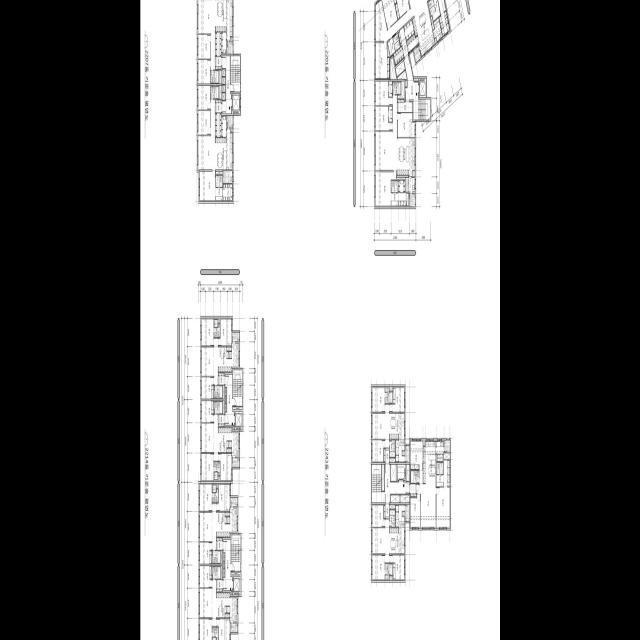background: (140, 0, 500, 640)
space_balconi: (413, 46, 421, 63), (409, 194, 415, 207)
space_bedroom: (375, 172, 396, 207), (436, 487, 449, 527), (375, 43, 389, 79), (199, 172, 215, 202), (382, 0, 397, 29), (375, 106, 392, 131), (398, 113, 415, 137), (375, 81, 392, 105), (218, 318, 232, 346), (216, 483, 230, 511), (218, 454, 232, 481), (410, 441, 423, 470), (389, 555, 404, 580), (199, 483, 212, 511), (389, 388, 404, 412), (201, 318, 213, 346), (372, 555, 385, 580), (201, 454, 213, 481), (410, 495, 420, 527), (197, 35, 210, 59), (216, 619, 230, 640), (198, 60, 210, 84), (198, 86, 210, 110), (198, 111, 210, 135), (372, 388, 384, 412), (199, 542, 212, 564), (395, 0, 409, 20), (199, 566, 211, 588), (201, 377, 213, 399), (372, 505, 384, 527), (372, 440, 384, 462), (201, 401, 213, 422), (199, 619, 211, 640), (388, 106, 392, 122), (388, 81, 392, 97)
space_dressroom: (439, 11, 450, 37), (223, 184, 233, 202), (443, 460, 449, 487), (398, 193, 408, 206), (398, 181, 405, 192)
space_elevator: (232, 94, 240, 114), (419, 78, 426, 97), (235, 412, 242, 430), (233, 577, 240, 595), (397, 465, 405, 480)
space_elevator_hall: (404, 56, 436, 120), (381, 465, 409, 503), (225, 375, 242, 425), (223, 540, 240, 590), (222, 56, 231, 114)
space_front: (398, 27, 408, 58), (393, 47, 404, 66), (404, 20, 414, 40), (397, 99, 412, 112), (215, 32, 221, 56), (215, 114, 221, 137), (383, 449, 389, 463), (215, 100, 221, 113), (410, 484, 416, 497), (383, 505, 389, 518), (216, 580, 222, 592), (218, 373, 224, 385), (215, 57, 221, 69), (218, 415, 224, 427), (216, 538, 222, 550)
space_kitchen: (412, 3, 435, 57), (215, 128, 233, 170), (215, 0, 233, 41), (389, 414, 404, 463), (389, 505, 404, 554), (397, 138, 415, 177), (216, 592, 237, 623), (218, 342, 239, 372), (216, 508, 237, 538), (218, 427, 239, 457), (423, 442, 435, 484), (221, 32, 226, 53), (221, 116, 226, 137)
space_living_room: (375, 0, 427, 41), (375, 95, 397, 170), (197, 100, 215, 171), (198, 0, 215, 70), (416, 471, 436, 527), (201, 415, 218, 461), (199, 580, 216, 626), (199, 504, 216, 550), (201, 339, 218, 385), (372, 519, 389, 563), (372, 405, 389, 448)
space_other: (406, 34, 418, 53), (433, 18, 442, 42), (395, 61, 405, 77), (436, 442, 444, 461), (405, 178, 415, 193), (390, 58, 397, 79), (223, 171, 233, 183), (398, 81, 404, 99), (390, 465, 396, 481), (397, 70, 407, 79), (390, 495, 399, 503), (400, 495, 409, 503), (382, 464, 384, 491), (406, 465, 409, 481), (431, 16, 434, 30), (387, 45, 390, 57), (443, 454, 449, 459), (389, 458, 395, 463), (233, 407, 242, 410), (231, 572, 240, 575), (219, 86, 221, 99), (219, 71, 221, 84), (389, 505, 395, 509), (222, 93, 225, 100), (222, 77, 225, 84), (222, 85, 225, 92), (222, 69, 225, 76), (434, 38, 437, 44), (225, 512, 229, 516), (225, 614, 229, 618), (227, 347, 231, 351), (397, 178, 405, 180), (413, 78, 418, 81), (412, 171, 415, 176), (223, 401, 224, 414), (223, 386, 224, 399), (221, 566, 222, 579), (221, 551, 222, 564), (405, 81, 407, 87), (389, 576, 392, 580), (227, 449, 231, 452), (230, 128, 233, 132), (216, 172, 222, 174), (216, 483, 218, 488), (218, 318, 220, 323), (423, 441, 425, 446), (389, 388, 392, 391), (402, 512, 404, 516), (223, 569, 224, 577), (225, 404, 226, 412), (223, 553, 224, 561), (218, 477, 220, 481), (402, 451, 404, 455), (225, 396, 226, 403), (225, 388, 226, 395), (223, 562, 224, 568), (233, 426, 234, 430), (231, 592, 232, 595)
space_outdoor_room: (227, 42, 233, 54), (444, 440, 450, 452), (405, 446, 409, 463), (405, 505, 409, 522), (227, 116, 233, 127), (230, 498, 237, 507), (232, 458, 239, 467), (232, 332, 239, 341), (230, 624, 237, 632)
space_staircase: (372, 465, 381, 503), (231, 56, 240, 92), (231, 535, 240, 562), (233, 370, 242, 397), (418, 109, 430, 120)
space_toilet: (428, 0, 440, 21), (436, 463, 443, 486), (387, 38, 395, 56), (438, 0, 446, 15), (385, 564, 392, 579), (385, 388, 392, 403), (210, 86, 218, 99), (389, 440, 395, 457), (389, 510, 395, 527), (214, 402, 222, 414), (210, 71, 218, 83), (212, 567, 220, 579), (212, 551, 220, 563), (214, 386, 222, 398), (411, 471, 419, 483), (392, 82, 400, 94), (391, 193, 398, 206), (212, 489, 218, 503), (216, 188, 222, 202), (214, 462, 220, 476), (212, 627, 218, 640), (214, 324, 220, 337), (394, 40, 400, 51), (393, 33, 399, 44), (394, 181, 398, 193), (391, 181, 394, 193), (216, 176, 219, 187), (219, 176, 222, 187), (212, 485, 216, 493), (214, 472, 218, 480), (214, 320, 217, 327), (212, 637, 216, 640)
